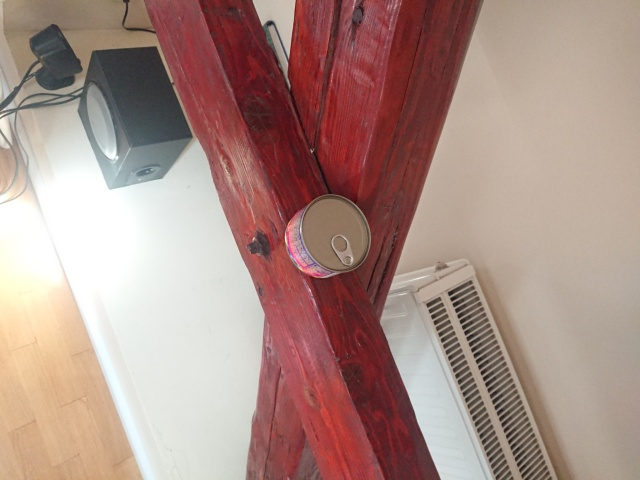Giana Tuna Salad Mexico 185g: (283, 192, 373, 283)
